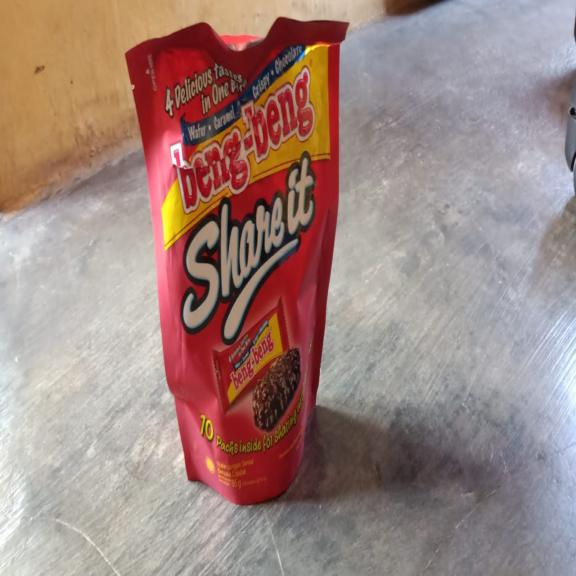Plastik: (126, 17, 350, 506)
